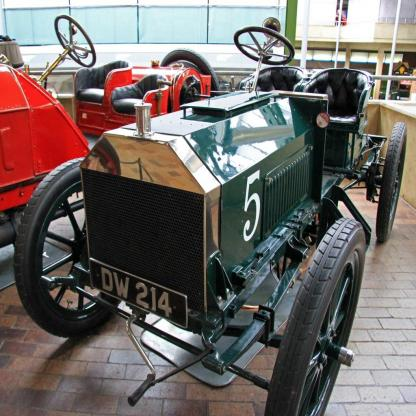Car: (1, 13, 220, 249), (1, 17, 101, 248), (372, 71, 399, 101), (394, 69, 416, 92)
